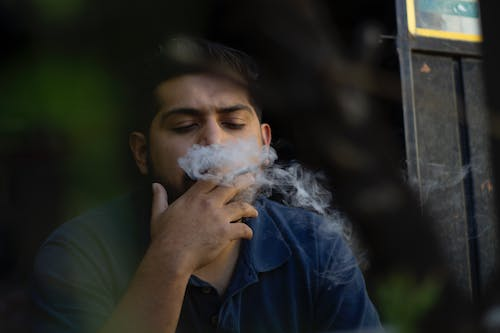cigarette: (221, 161, 263, 182)
